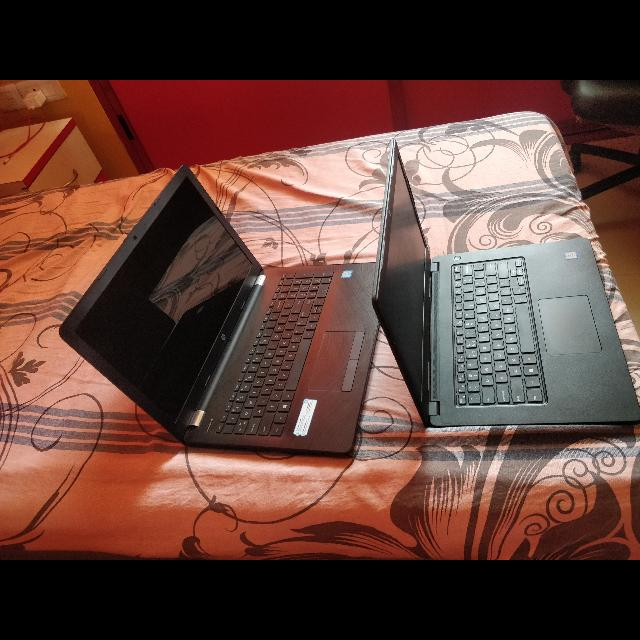Laptop: (52, 158, 394, 470), (362, 132, 640, 446)
